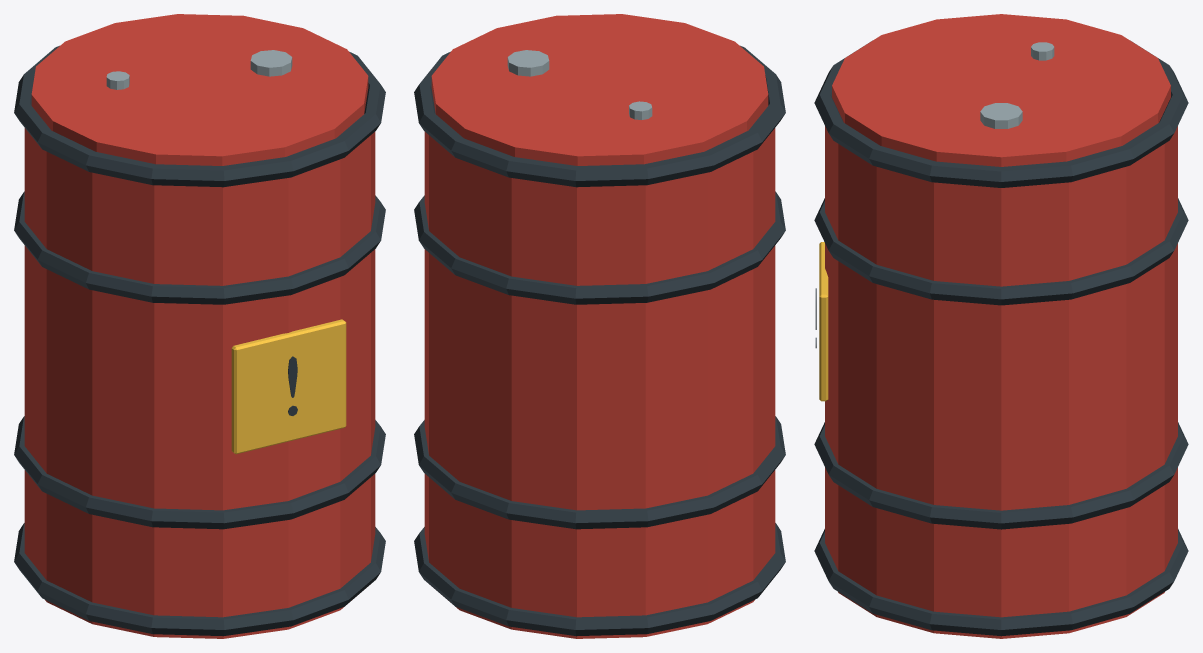
Rendered from Oil_Drum.glb.
3 views of the same model, side by side, from view 1: azimuth 30°, elevation 25°; view 2: azimuth 150°, elevation 25°; view 3: azimuth 270°, elevation 25° (orthographic).
Visible parts, largest first — view 1: Oil_Drum; view 2: Oil_Drum; view 3: Oil_Drum.
Boxes of the visible parts, left/top/right/bottom form: Oil_Drum: left=14, top=14, right=385, bottom=638; Oil_Drum: left=414, top=14, right=785, bottom=638; Oil_Drum: left=814, top=14, right=1188, bottom=638.
Bounding box in the file's own units: 0.636 × 0.914 × 0.636.
